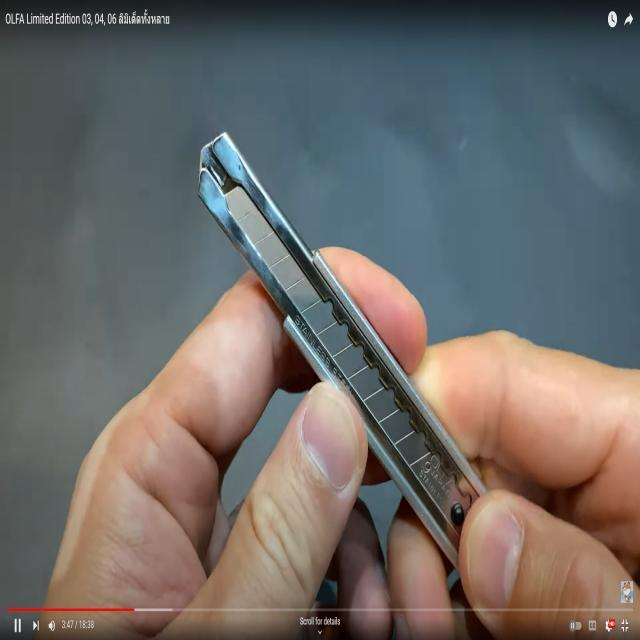cutter: (180, 127, 638, 577)
